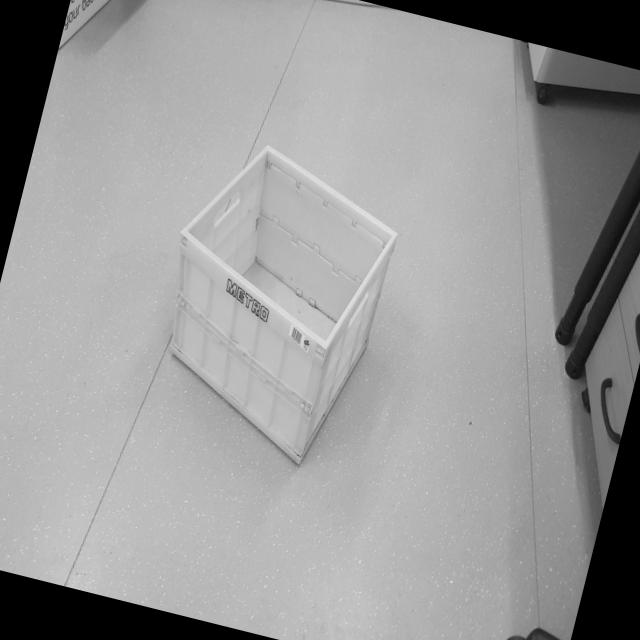box: (114, 107, 421, 487)
